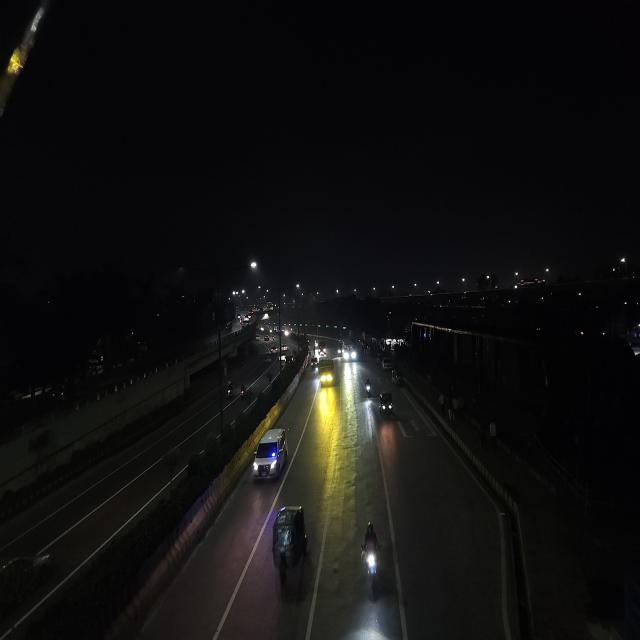bus: (342, 339, 358, 363)
car: (250, 425, 292, 487), (380, 355, 394, 370), (279, 344, 289, 357), (269, 343, 278, 356), (279, 351, 289, 362), (264, 334, 270, 342)
cng: (268, 501, 312, 584), (378, 389, 396, 420), (390, 370, 400, 386), (310, 358, 318, 372), (225, 321, 233, 334), (264, 352, 271, 364)
motorcycle: (356, 520, 384, 600), (362, 376, 373, 399), (225, 377, 235, 402), (239, 382, 247, 399)
truck: (319, 357, 335, 388)
